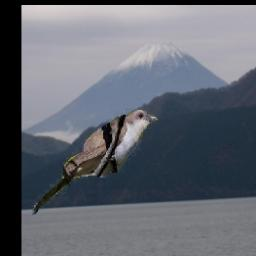Cuckoo: (32, 109, 159, 216)
